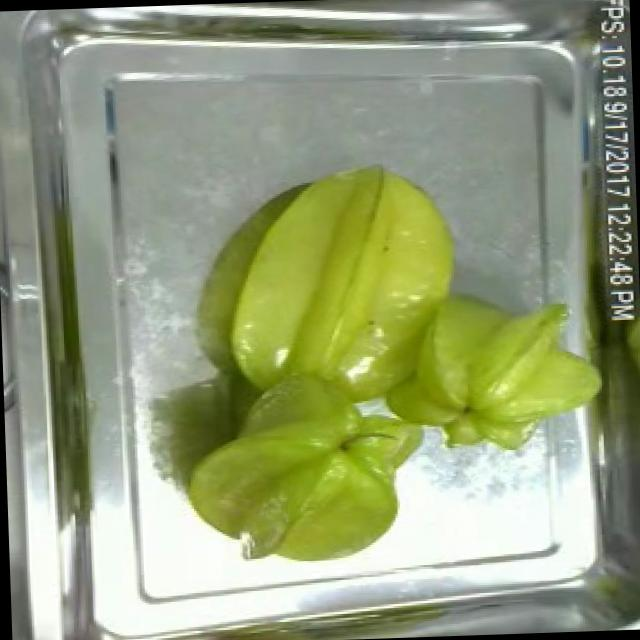fruit: (205, 149, 472, 424), (168, 359, 418, 577), (314, 272, 612, 454)
